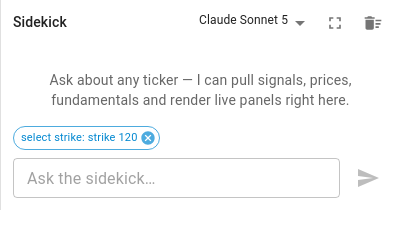
ChatRail › pending interactions (backchannel composer chips) › shows a chip for a queued interaction and sends it with the next message
Check: the button with test id "pending-interaction" shows "select strike", box [13, 126, 160, 150]
Check: the button with test id "pending-interaction" shows "120", box [13, 126, 160, 150]
Type "What about this one?" into the text box with placeholder "Ask the sidekick…" at {"x": 176, "y": 178}, box [27, 166, 326, 190]
Then press Enter
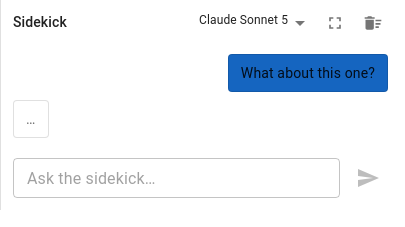
Check: the button with test id "pending-interaction" is gone
